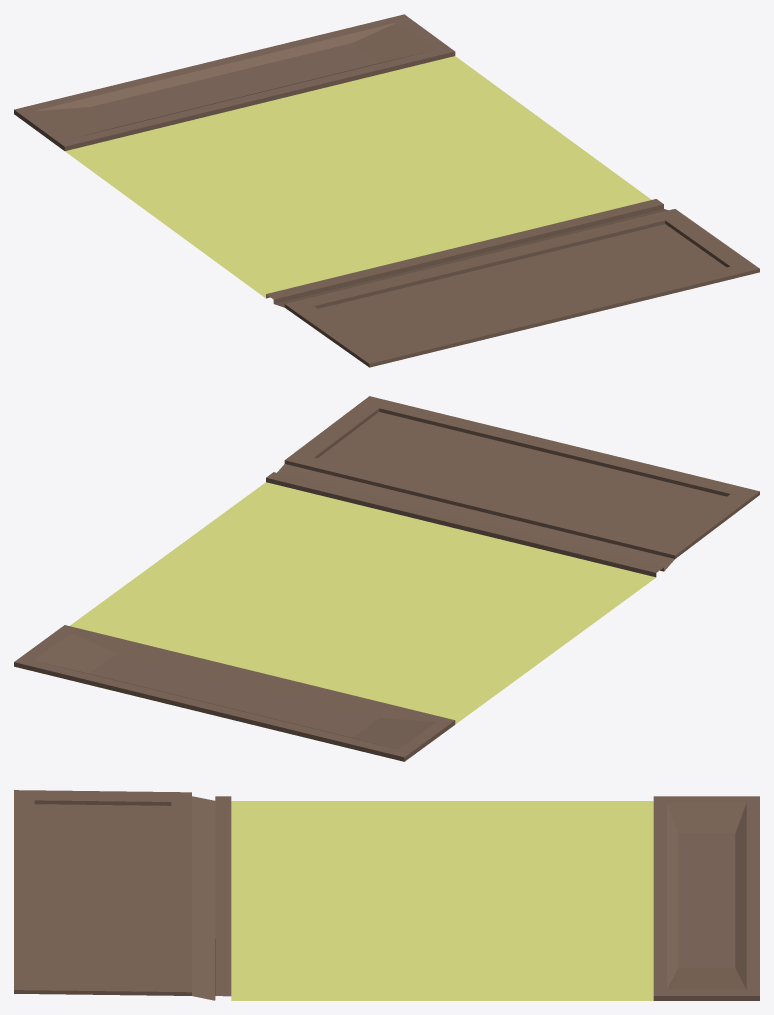
The model's file is Wall.fbx.
3 renders of one model, top to bottom at view 1: azimuth 30°, elevation 25°; view 2: azimuth 150°, elevation 25°; view 3: azimuth 270°, elevation 25°, orthographic. The views are drawn at different scales.
Parts seen in each view (by area): view 1: DoorFrame.002; view 2: DoorFrame.002; view 3: DoorFrame.002.
Boxes of the visible parts, left/top/right/bottom form: DoorFrame.002: left=14, top=14, right=759, bottom=367; DoorFrame.002: left=14, top=396, right=759, bottom=761; DoorFrame.002: left=14, top=790, right=759, bottom=1000.
Size of the model in its own units: 371 by 9.4 by 585.
